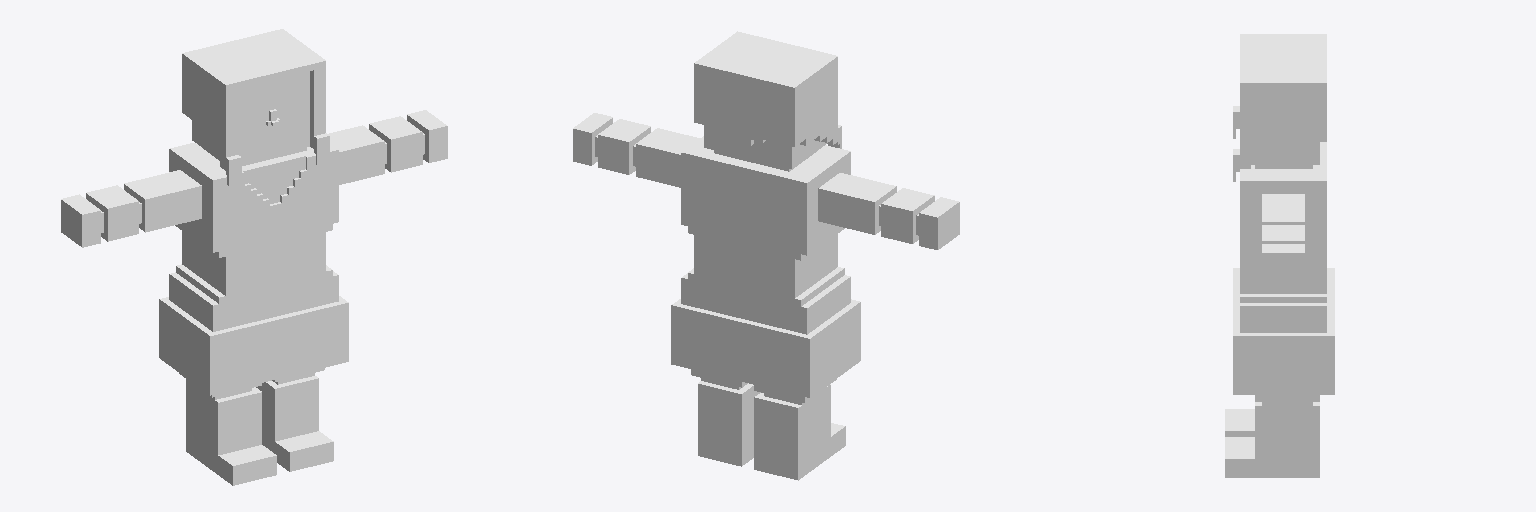
The model's file is CARO_AVATAR-0.obj.
The picture shows the model from 3 angles: view 1: azimuth 30°, elevation 25°; view 2: azimuth 150°, elevation 25°; view 3: azimuth 270°, elevation 25°; orthographic projection.
Visible parts, largest first — view 1: CARO_AVATAR-0; view 2: CARO_AVATAR-0; view 3: CARO_AVATAR-0.
Boxes of the visible parts, <box> form: CARO_AVATAR-0: <box>61,29,447,485</box>; CARO_AVATAR-0: <box>573,31,959,480</box>; CARO_AVATAR-0: <box>1225,34,1334,477</box>.
Bounding box in the file's own units: 116 × 120 × 30.